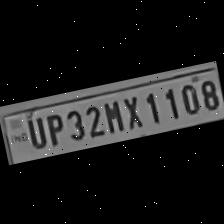0: (174, 78, 201, 116)
1: (156, 82, 180, 122), (138, 87, 163, 125)
2: (79, 100, 104, 139)
3: (61, 104, 86, 142)
8: (195, 72, 222, 110)
M: (98, 96, 125, 134)
P: (41, 108, 67, 146)
U: (21, 112, 47, 148)
X: (117, 91, 145, 131)
